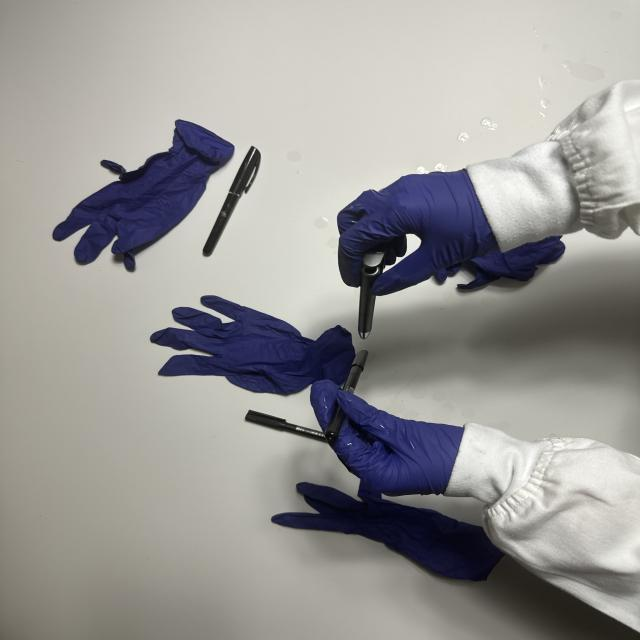gloves_contaminated: (338, 170, 498, 296), (311, 382, 464, 496)
